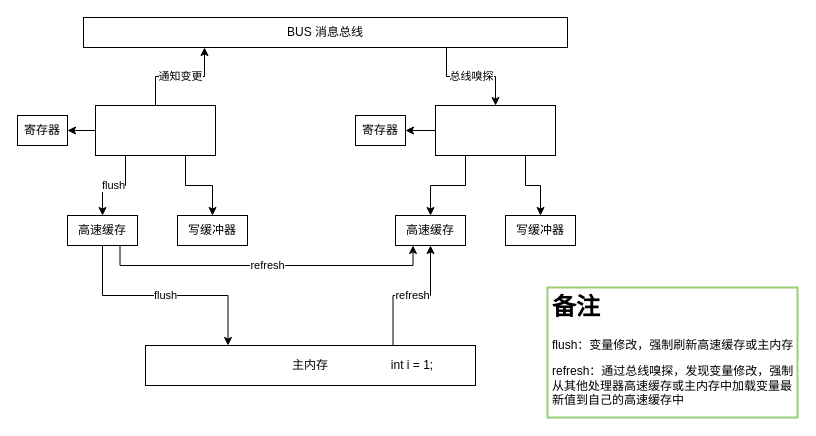
The diagram is 816 pixels wide and 436 high, and some of its shapes have lost their labels. The shapes that lost their labels are listed below. From the top down, each one's centre as x and y in pixels, then its label:
At [155,130]: "处理器 0".
At [495,130]: "处理器 1".
